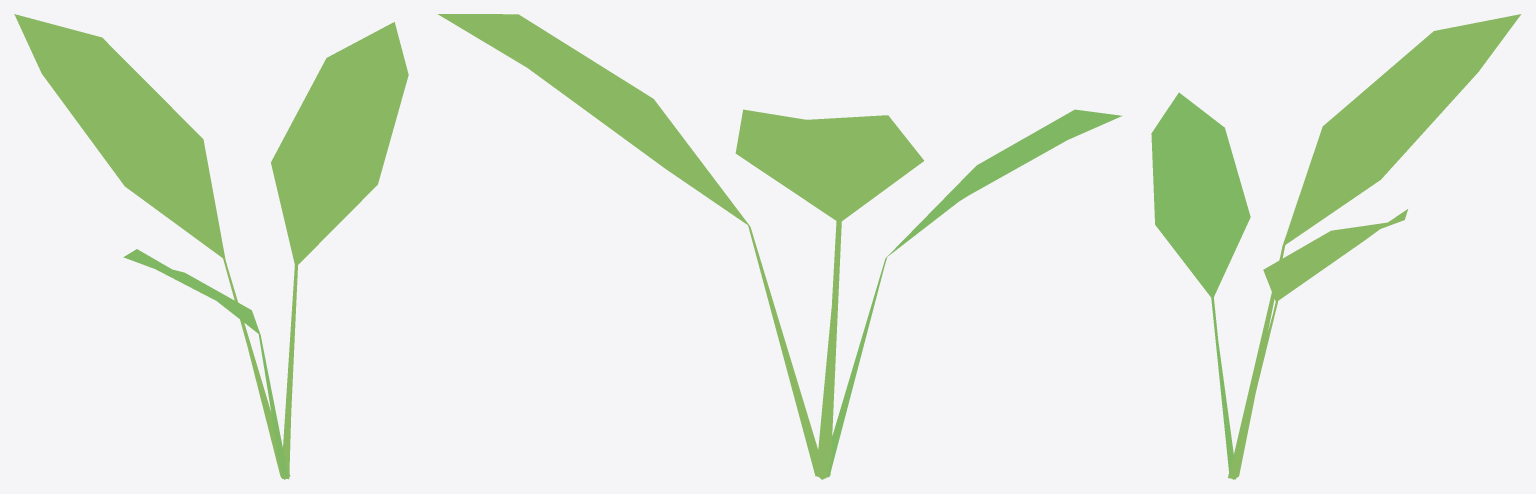
The model's file is Plant_j_OneS_08.fbx.
3 renders of one model, left to right at view 1: azimuth 30°, elevation 25°; view 2: azimuth 150°, elevation 25°; view 3: azimuth 270°, elevation 25°, orthographic. The views are drawn at different scales.
Visible parts, largest first — view 1: Plant_j_OneS_08; view 2: Plant_j_OneS_08; view 3: Plant_j_OneS_08.
Boxes of the visible parts, x1=… form: Plant_j_OneS_08: x1=14, y1=14, x2=408, y2=479; Plant_j_OneS_08: x1=438, y1=14, x2=1122, y2=479; Plant_j_OneS_08: x1=1151, y1=14, x2=1521, y2=479.
Bounding box in the file's own units: 0.2747 × 0.269 × 0.2261.
